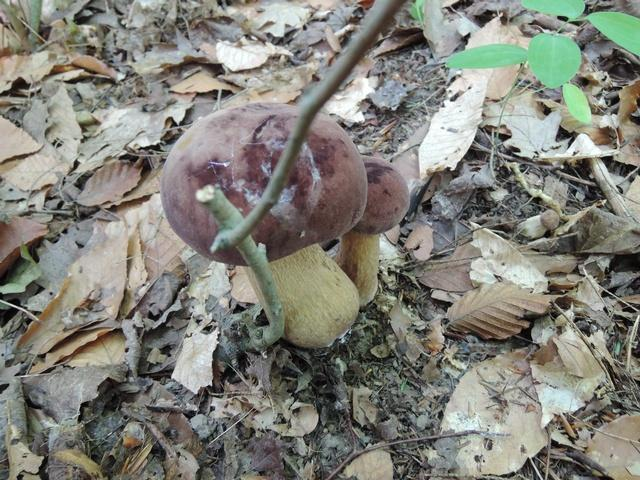Non-edible Mushroom: (158, 100, 369, 350)
